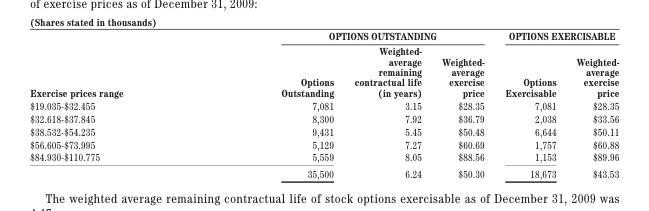table: (29, 29, 618, 179)
table column: (29, 29, 201, 179), (201, 29, 343, 179), (343, 29, 431, 179), (494, 29, 565, 179), (431, 29, 494, 179), (565, 29, 618, 179)
table column header: (29, 29, 618, 98)
table row: (29, 43, 618, 98), (29, 150, 618, 165), (29, 29, 618, 43), (29, 165, 618, 179), (29, 98, 618, 111), (29, 111, 618, 124), (29, 124, 618, 137), (29, 137, 618, 150)
table spanning cell: (29, 29, 201, 98), (201, 29, 494, 43), (494, 29, 618, 43)
